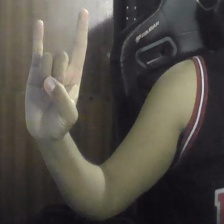U: (18, 6, 95, 141)
